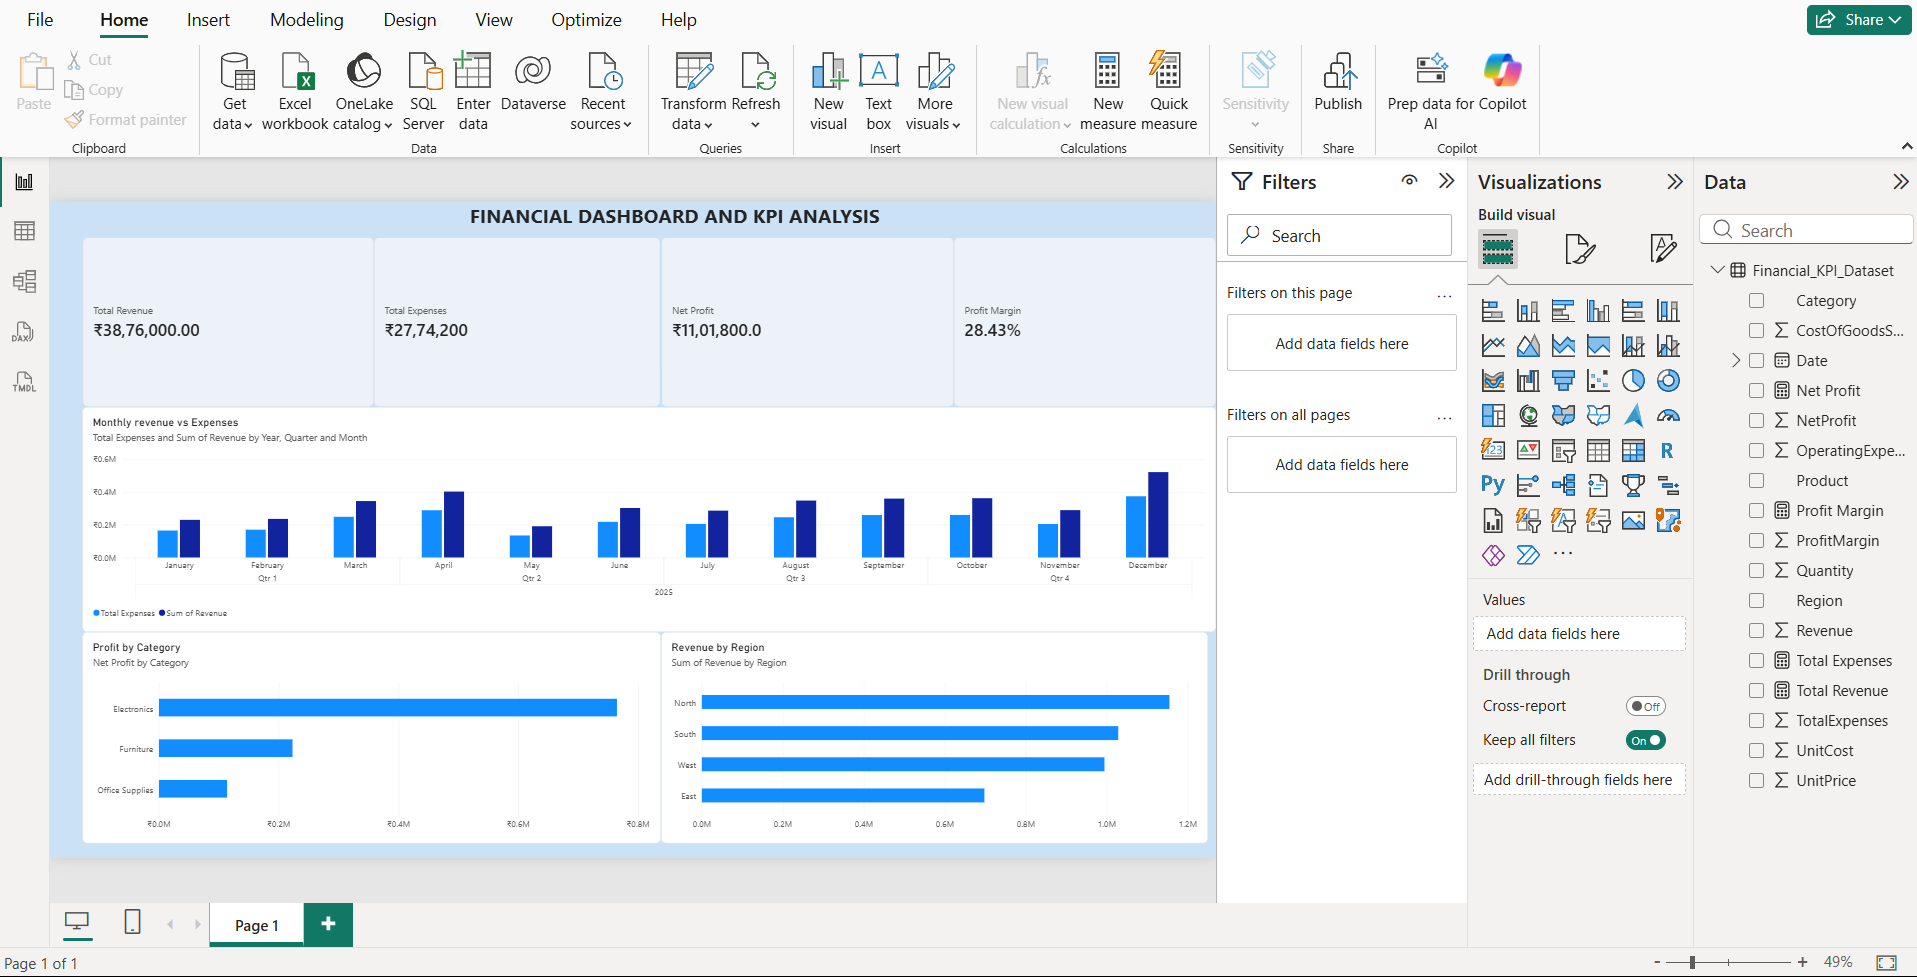

The page's visual inventory and layout, read from the dashboard file:
{"tool":"powerbi","page":{"name":"Page 1","canvas":[1920,1080],"ordinal":0},"visuals":[{"type":"cardVisual","fields":{"Data":["Financial_KPI_Dataset.Total Revenue"]},"box":[54,58,480,280],"z":0},{"type":"cardVisual","fields":{"Data":["Financial_KPI_Dataset.Total Expenses"]},"box":[534,58,472,280],"z":1000},{"type":"cardVisual","fields":{"Data":["Financial_KPI_Dataset.Net Profit"]},"box":[1006,58,482,280],"z":2000},{"type":"cardVisual","fields":{"Data":["Financial_KPI_Dataset.Profit Margin"]},"box":[1488,58,432,280],"z":3000},{"type":"clusteredColumnChart","title":"Monthly revenue vs Expenses","fields":{"Category":["Financial_KPI_Dataset.Date.Variation.Date Hierarchy.Year","Financial_KPI_Dataset.Date.Variation.Date Hierarchy.Quarter","Financial_KPI_Dataset.Date.Variation.Date Hierarchy.Month","Financial_KPI_Dataset.Date.Variation.Date Hierarchy.Day"],"Y":["Financial_KPI_Dataset.Total Expenses","Sum(Financial_KPI_Dataset.Revenue)"]},"box":[54,338,1866,370],"z":4000},{"type":"clusteredBarChart","title":"Profit by Category","fields":{"Category":["Financial_KPI_Dataset.Category"],"Y":["Financial_KPI_Dataset.Net Profit"]},"box":[54,708,952,348],"z":5000},{"type":"clusteredBarChart","title":"Revenue by Region","fields":{"Category":["Financial_KPI_Dataset.Region"],"Y":["Sum(Financial_KPI_Dataset.Revenue)"]},"box":[1006,708,900,348],"z":6000},{"type":"textbox","box":[692,0,704,44],"z":7000}]}

Visuals, with their boxes on the page's 1920x1080 design canvas (x1, y1, x2, y2). These are canvas units, not pixel positions in the 1917x977 screenshot, which may show the page scaled, cropped or inside an application window:
cardVisual - Financial_KPI_Dataset.Total Revenue: l=54, t=58, r=534, b=338
cardVisual - Financial_KPI_Dataset.Total Expenses: l=534, t=58, r=1006, b=338
cardVisual - Financial_KPI_Dataset.Net Profit: l=1006, t=58, r=1488, b=338
cardVisual - Financial_KPI_Dataset.Profit Margin: l=1488, t=58, r=1920, b=338
"Monthly revenue vs Expenses" clusteredColumnChart: l=54, t=338, r=1920, b=708
"Profit by Category" clusteredBarChart: l=54, t=708, r=1006, b=1056
"Revenue by Region" clusteredBarChart: l=1006, t=708, r=1906, b=1056
textbox: l=692, t=0, r=1396, b=44
